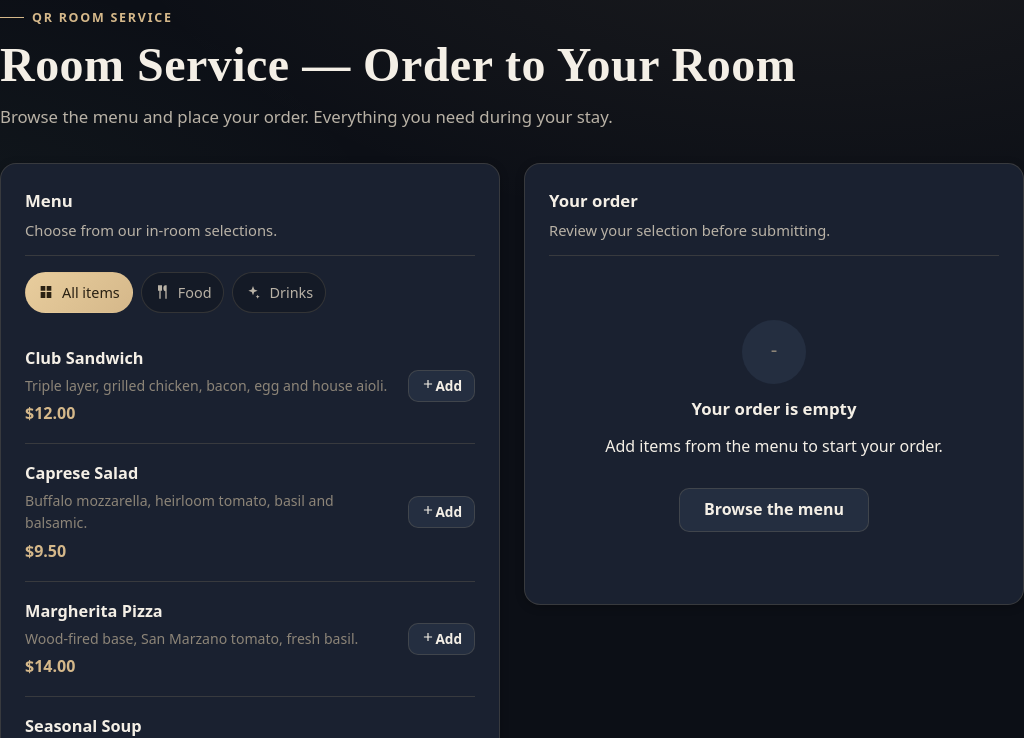
Test: QRRoomServiceView › filters the menu by category
Click the button "Drinks" at [279, 292], box [232,272,326,313]
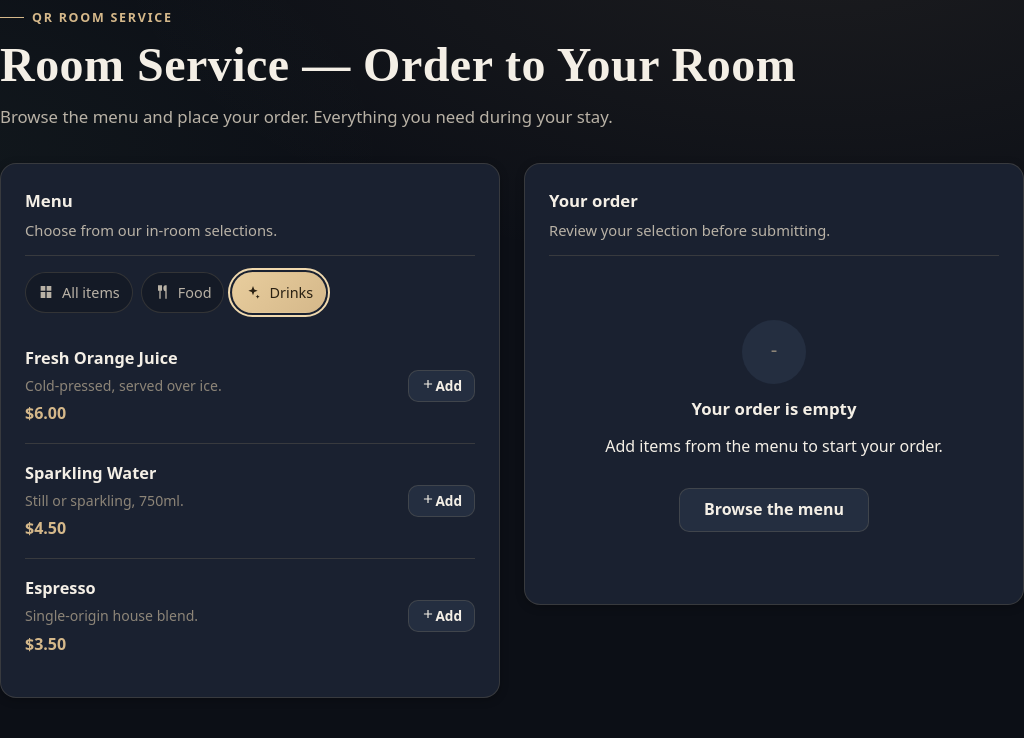
Expected: the text "Sparkling Water" is shown, [25,462,156,484]
Now the text "Triple layer, grilled chicken, bacon, egg and house aioli." is gone
